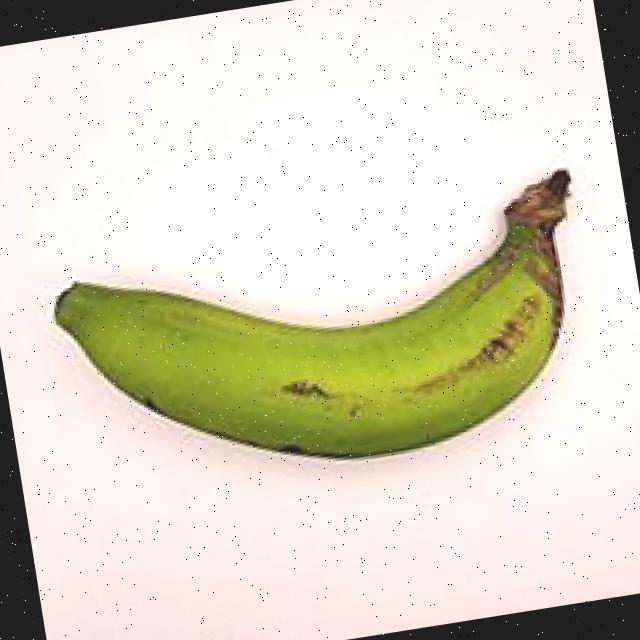Raw: (25, 134, 633, 532)
